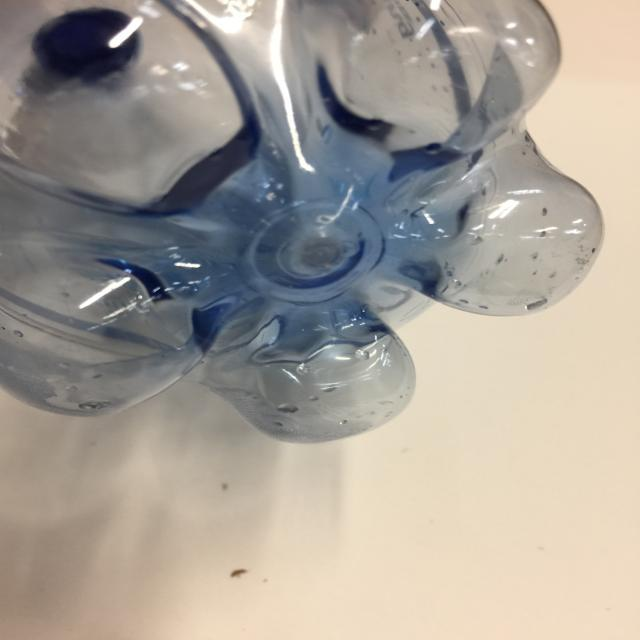plastic: (1, 1, 640, 440)
